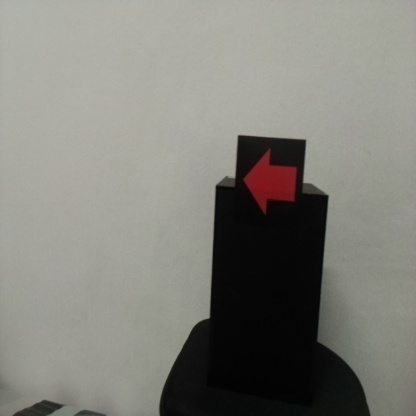id_4: (237, 137, 303, 228)
